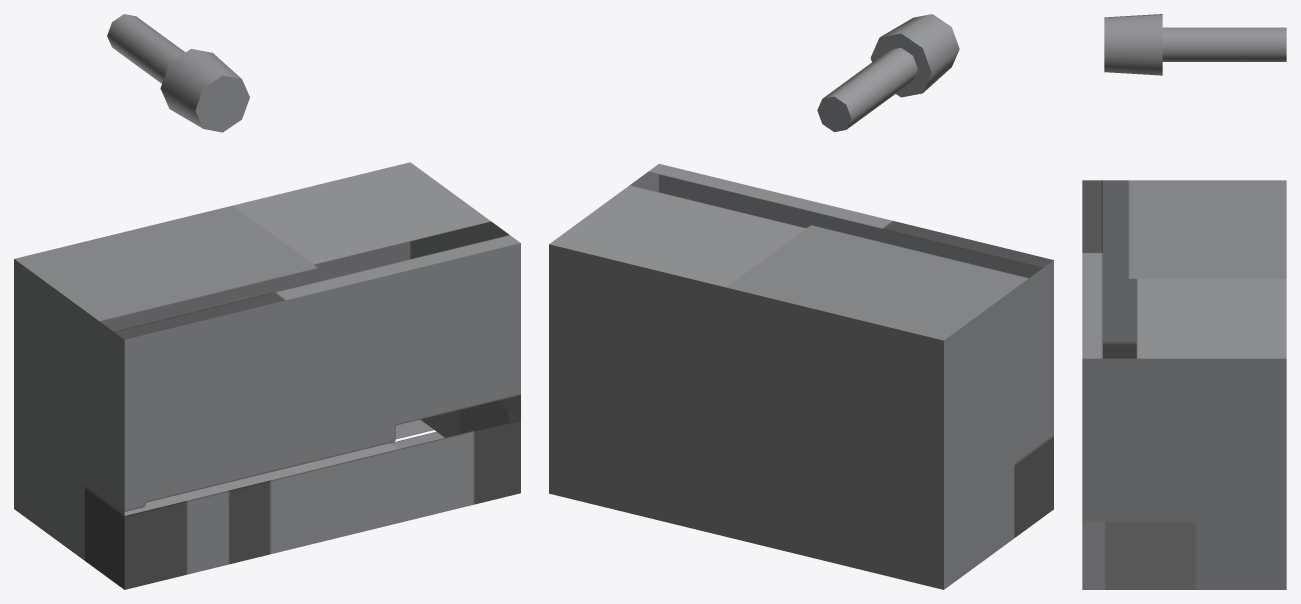
3 views of the same model, side by side, from view 1: azimuth 30°, elevation 25°; view 2: azimuth 150°, elevation 25°; view 3: azimuth 270°, elevation 25° (orthographic). The views are drawn at different scales.
Size of the model in its own units: 0.58 by 0.675 by 0.28.
